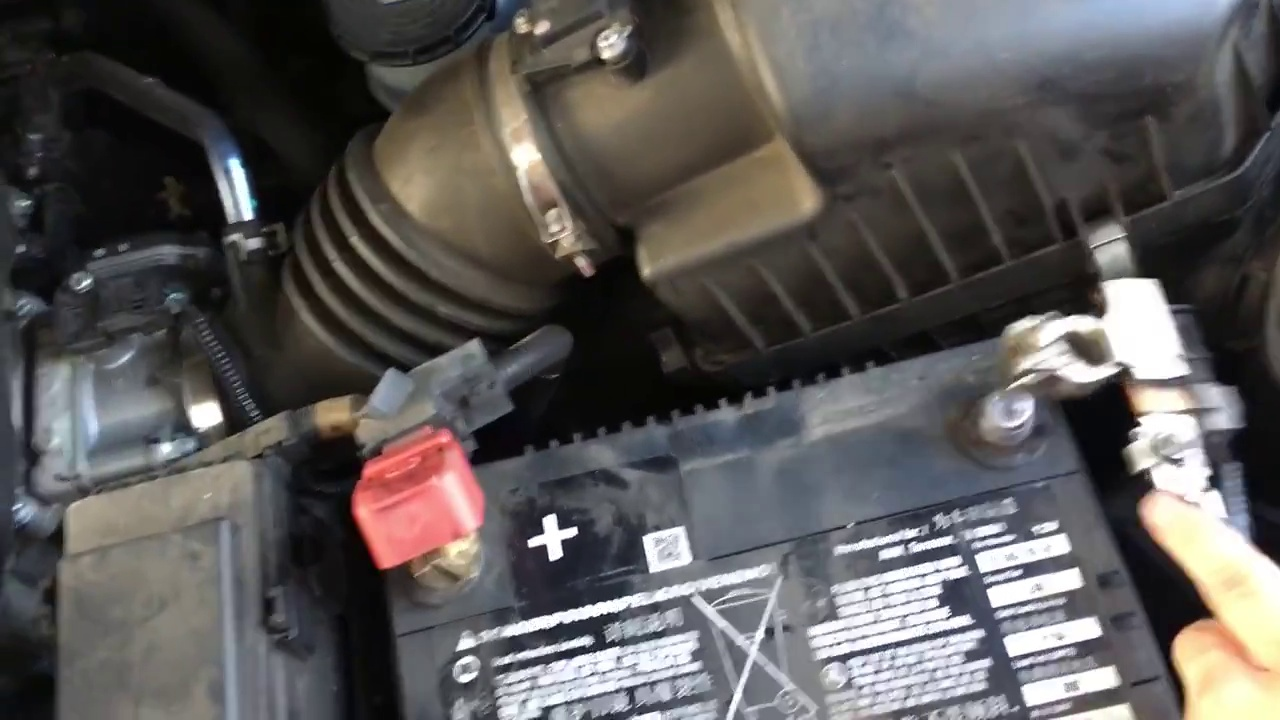battery: (347, 321, 1181, 717)
pos_connected: (318, 402, 513, 605)
